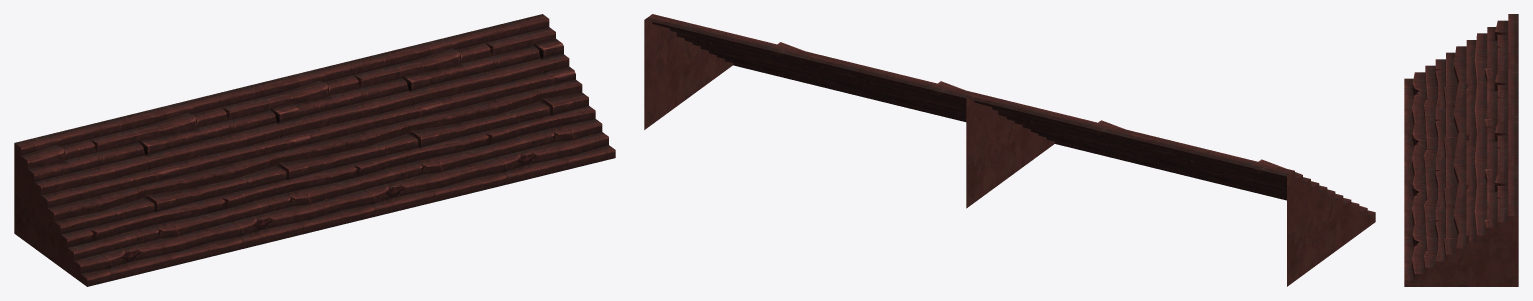
File: lava_stair_halfquad_01.fbx
The picture shows the model from 3 angles, left to right: view 1: azimuth 30°, elevation 25°; view 2: azimuth 150°, elevation 25°; view 3: azimuth 270°, elevation 25°; orthographic projection. The views are drawn at different scales.
Visible parts, largest first — view 1: lava_stair_halfquad_01-0; view 2: lava_stair_halfquad_01-0; view 3: lava_stair_halfquad_01-0.
Boxes of the visible parts, x1,y1,x2,y2 form: lava_stair_halfquad_01-0: [14, 14, 615, 286]; lava_stair_halfquad_01-0: [644, 14, 1375, 286]; lava_stair_halfquad_01-0: [1404, 14, 1518, 286].
Size of the model in its own units: 16.75 by 2.75 by 4.
